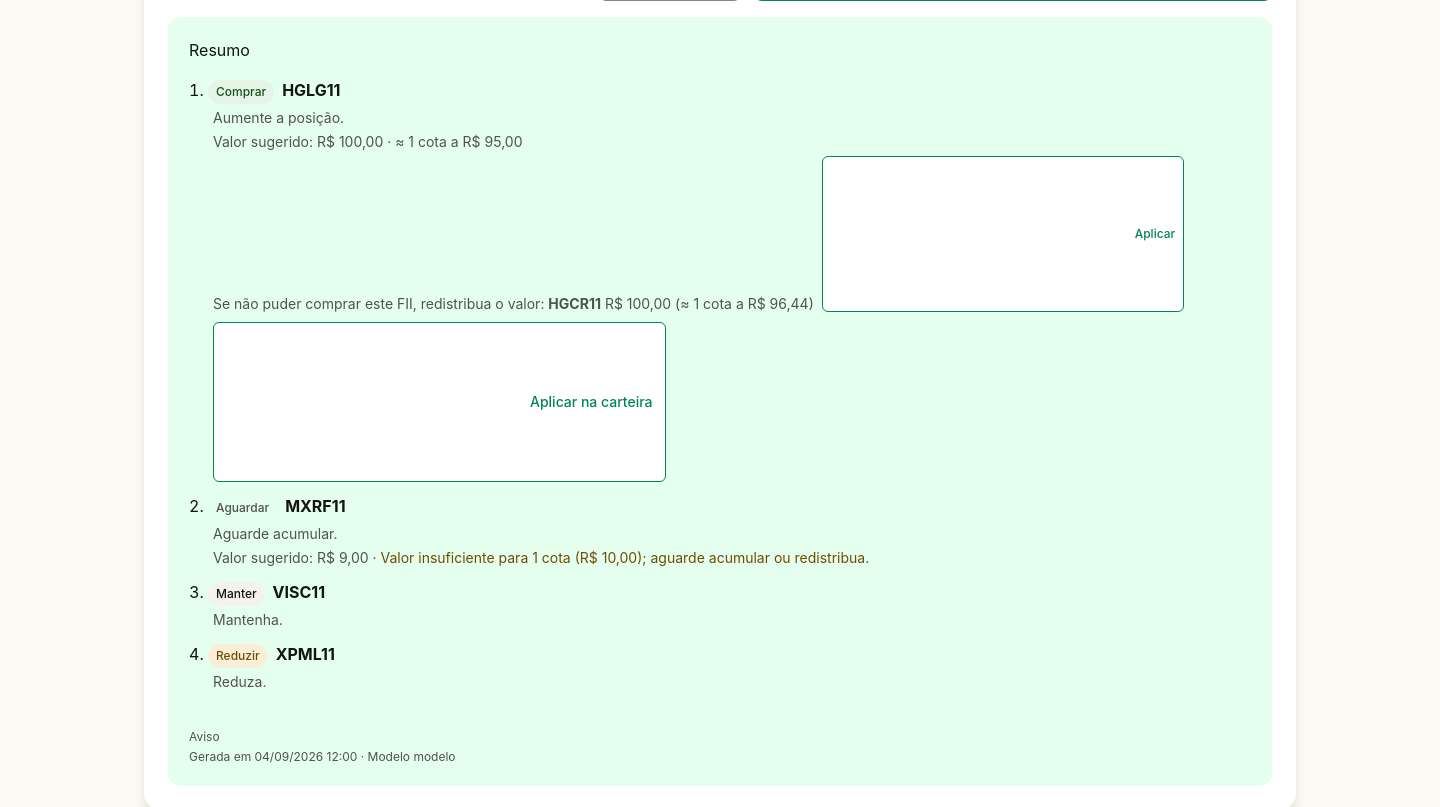
Scenario: RecommendedWalletComponent › aplicar na carteira › deve mostrar erro genérico quando a API não explica a falha
The width and height of the screenshot is (1440, 807).
(page scrolled)
Step 1. Click the button "Aplicar na carteira" → (439, 402), box [213,322,666,482]
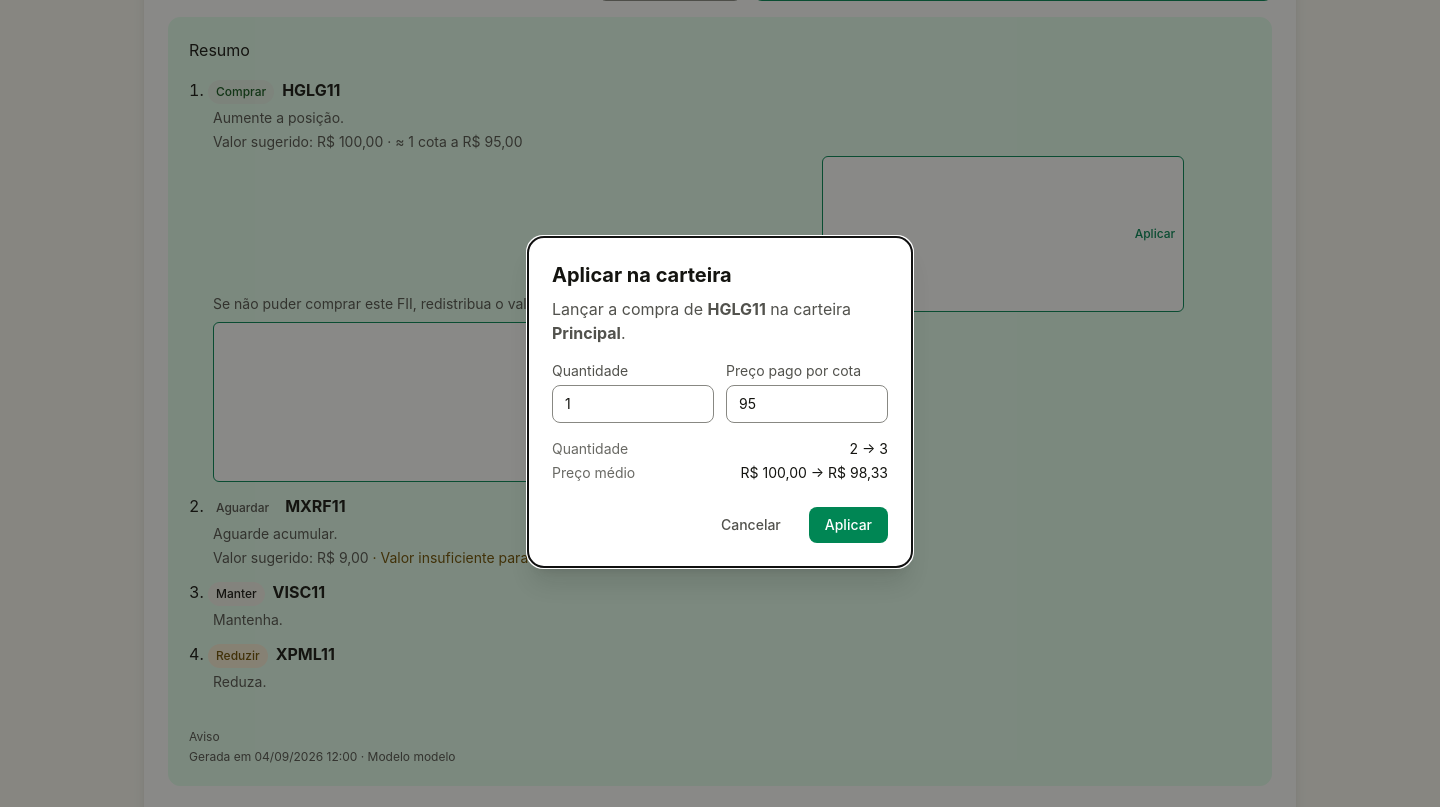
Step 2. Click the button with test id "confirm-dialog-confirm" → (848, 525), box [809,507,888,543]
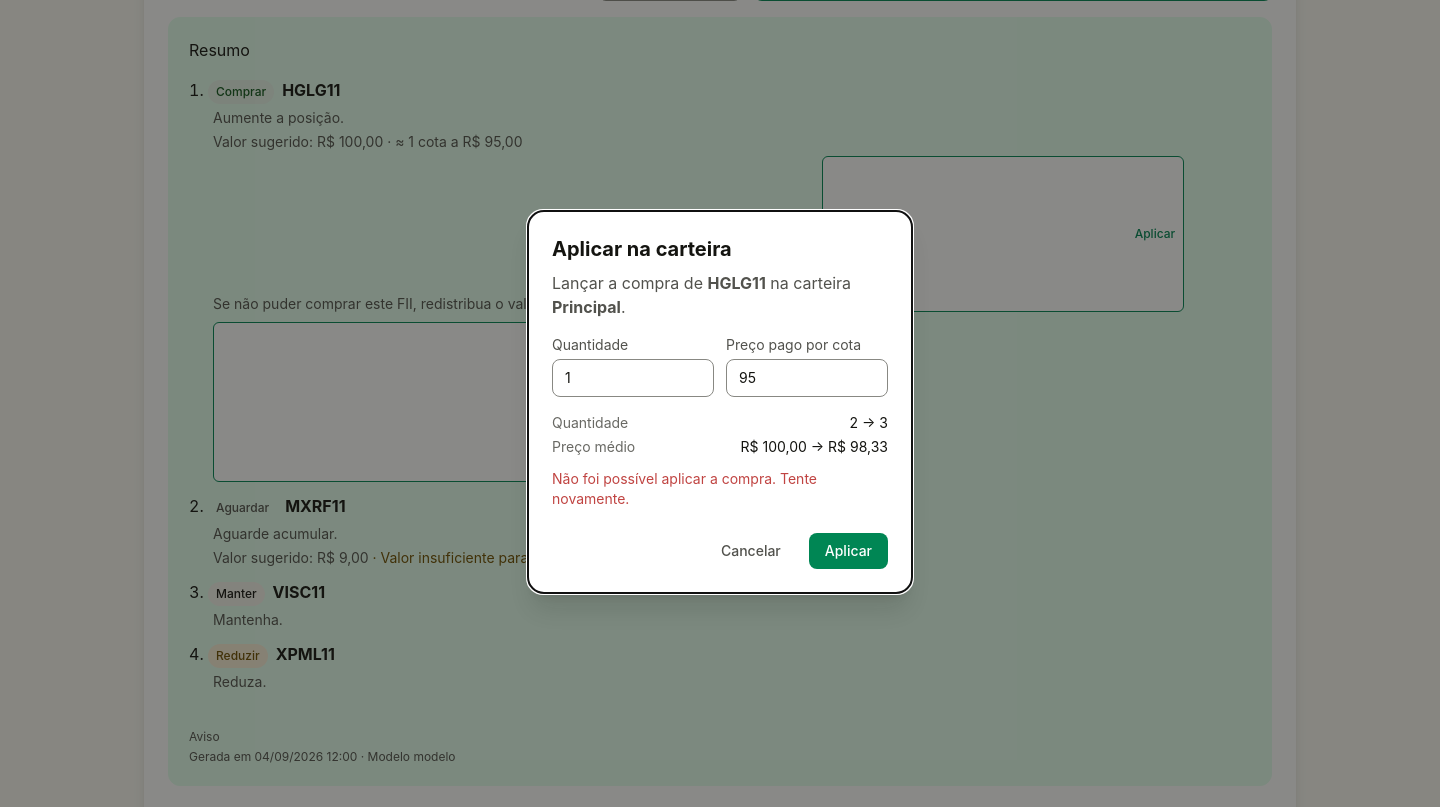
Now the message with test id "apply-error" shows "Não foi possível aplicar", box [552,470,817,507]
